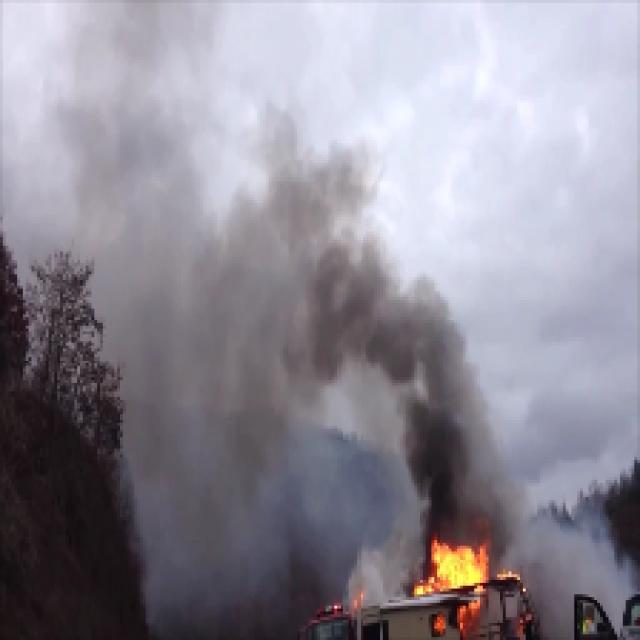fire: (421, 540, 490, 590)
smoke: (228, 254, 403, 362), (401, 303, 478, 531)
